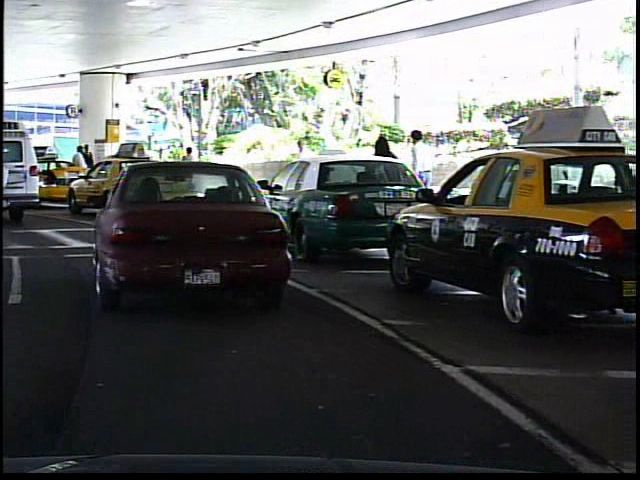person: (403, 123, 441, 226), (365, 129, 399, 227), (285, 132, 313, 204), (175, 140, 201, 191), (71, 145, 88, 197), (81, 142, 96, 193)
